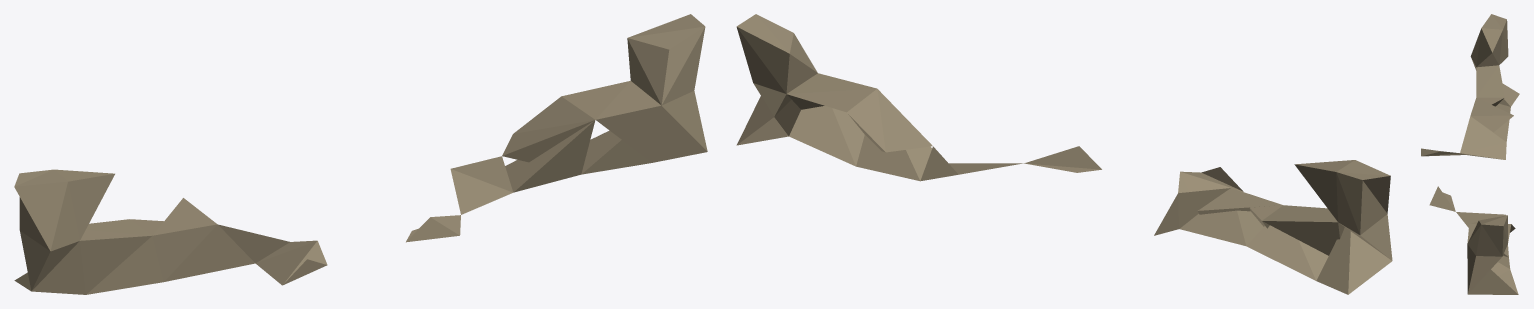
The model's file is wall-dry-stone-ruined-lod1.glb.
The picture shows the model from 3 angles, left to right: view 1: azimuth 30°, elevation 25°; view 2: azimuth 150°, elevation 25°; view 3: azimuth 270°, elevation 25°; orthographic projection. The views are drawn at different scales.
Bounding box in the file's own units: 6.01 × 0.9799 × 1.19.
